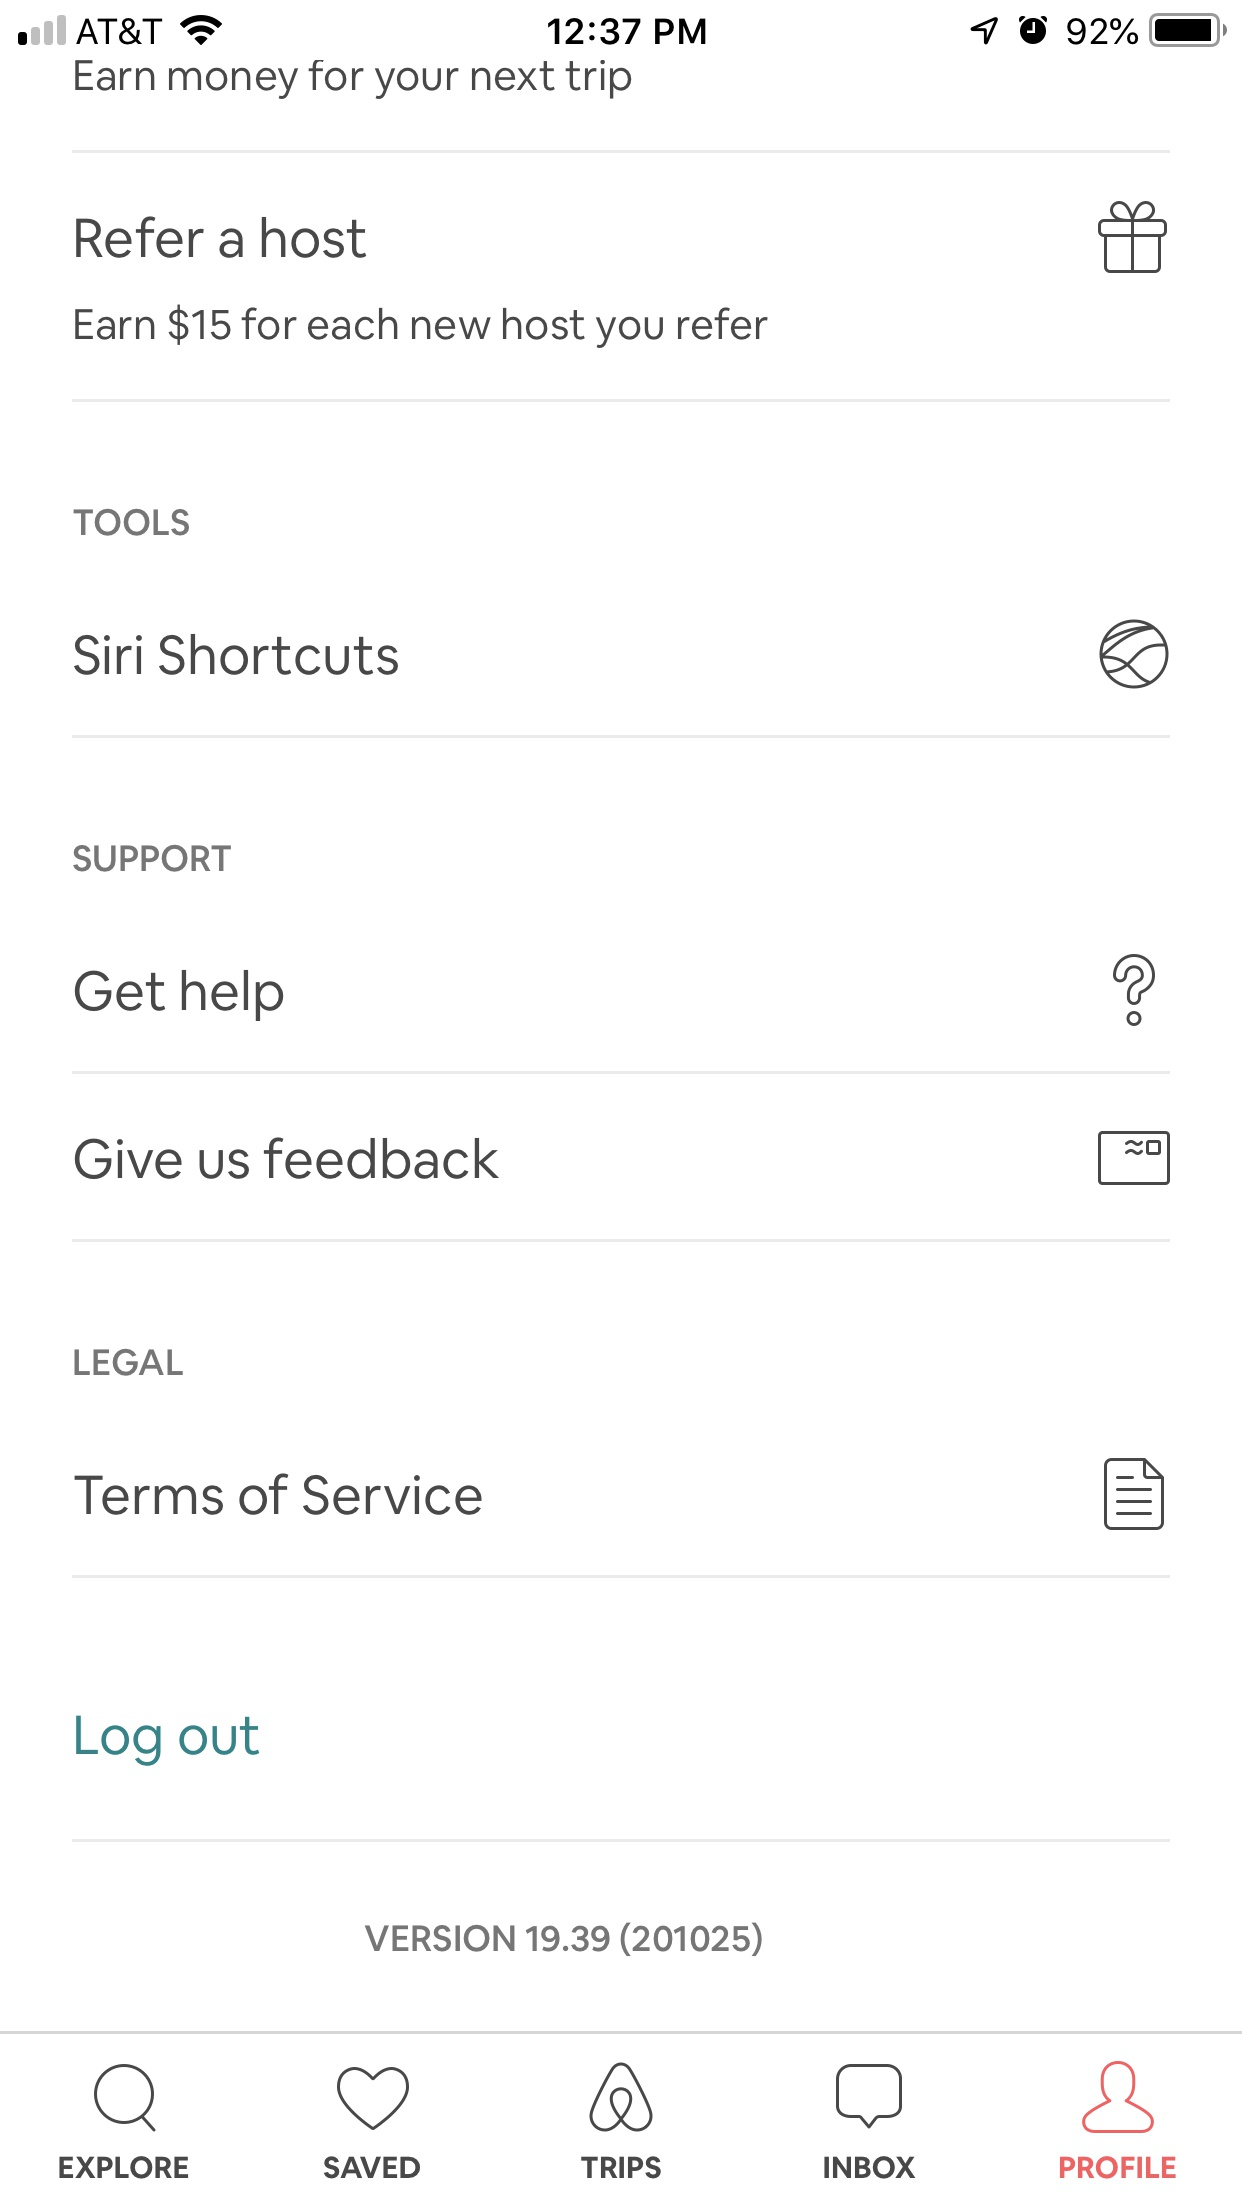Icon: (1081, 2059, 1156, 2134), (1098, 202, 1168, 274), (337, 2065, 409, 2131), (1102, 1457, 1165, 1532), (836, 2062, 902, 2131), (94, 2064, 158, 2134), (1096, 1131, 1171, 1186), (1112, 952, 1156, 1027)
Image: (1098, 619, 1169, 690), (588, 2062, 654, 2134)
Text: (74, 303, 769, 350), (74, 61, 632, 102), (74, 1136, 500, 1180), (74, 1473, 482, 1516), (364, 1921, 763, 1956), (74, 634, 399, 676), (77, 215, 369, 259), (74, 971, 285, 1024), (76, 1714, 259, 1767), (73, 845, 234, 873), (74, 508, 191, 537), (61, 2155, 190, 2181), (74, 1348, 185, 1377), (1059, 2155, 1177, 2181), (823, 2155, 916, 2181), (325, 2155, 422, 2179), (581, 2155, 663, 2179)
UpperTaskBar: (2, 2, 1242, 49)
